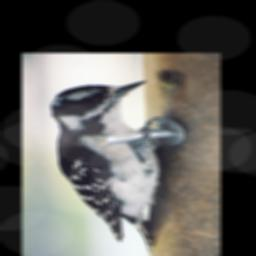Woodpecker: (50, 80, 167, 252)
